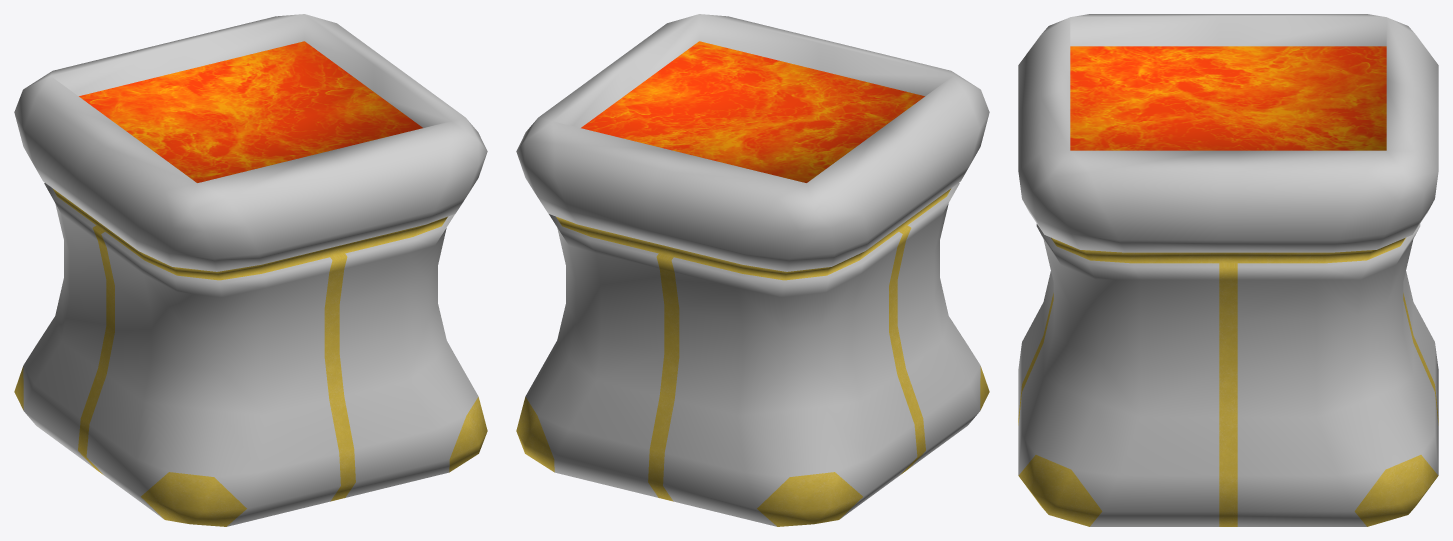
3 views of the same model, side by side, from view 1: azimuth 30°, elevation 25°; view 2: azimuth 150°, elevation 25°; view 3: azimuth 270°, elevation 25° (orthographic). The views are drawn at different scales.
Parts seen in each view (by area): view 1: 炉子; view 2: 炉子; view 3: 炉子.
Boxes of the visible parts, x1=… form: 炉子: x1=14, y1=14, x2=487, y2=526; 炉子: x1=516, y1=14, x2=989, y2=526; 炉子: x1=1018, y1=14, x2=1438, y2=526.
Size of the model in its own units: 190 by 186 by 190.
